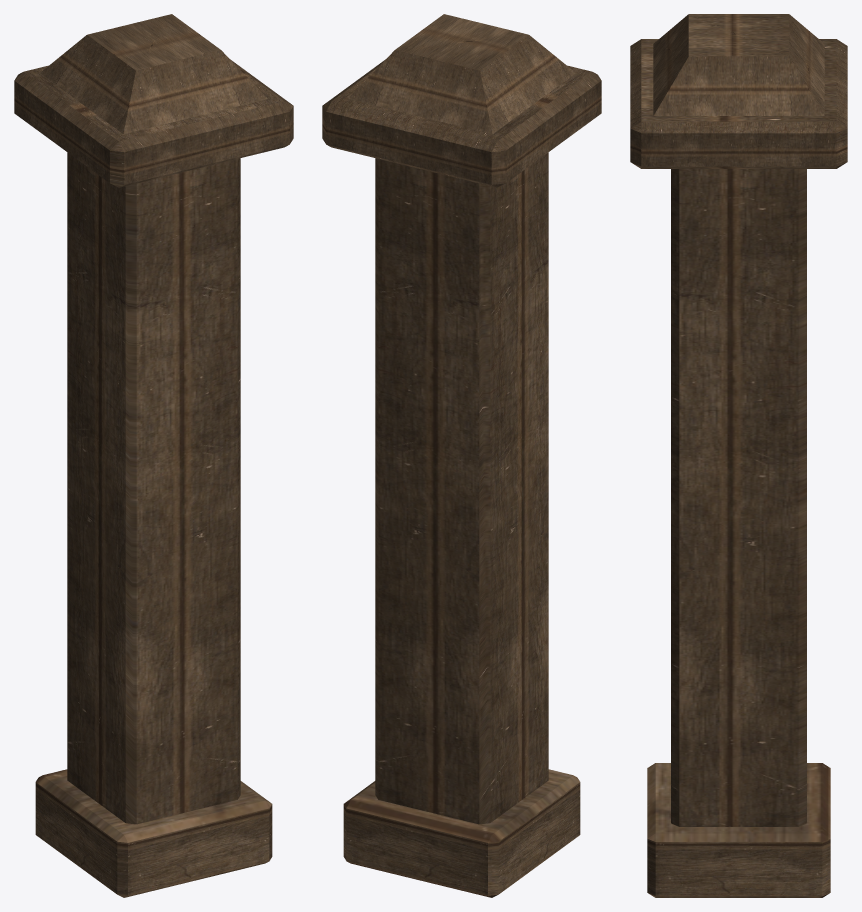
The picture shows the model from 3 angles, left to right: view 1: azimuth 30°, elevation 25°; view 2: azimuth 150°, elevation 25°; view 3: azimuth 270°, elevation 25°; orthographic projection. The views are drawn at different scales.
Visible parts, largest first — view 1: BP_1_1; view 2: BP_1_1; view 3: BP_1_1.
Boxes of the visible parts, x1,y1,x2,y2 form: BP_1_1: (14, 14, 293, 897); BP_1_1: (322, 14, 601, 897); BP_1_1: (630, 14, 847, 897).
Size of the model in its own units: 0.2893 by 1.22 by 0.2893.
1 material, 1 textured.
